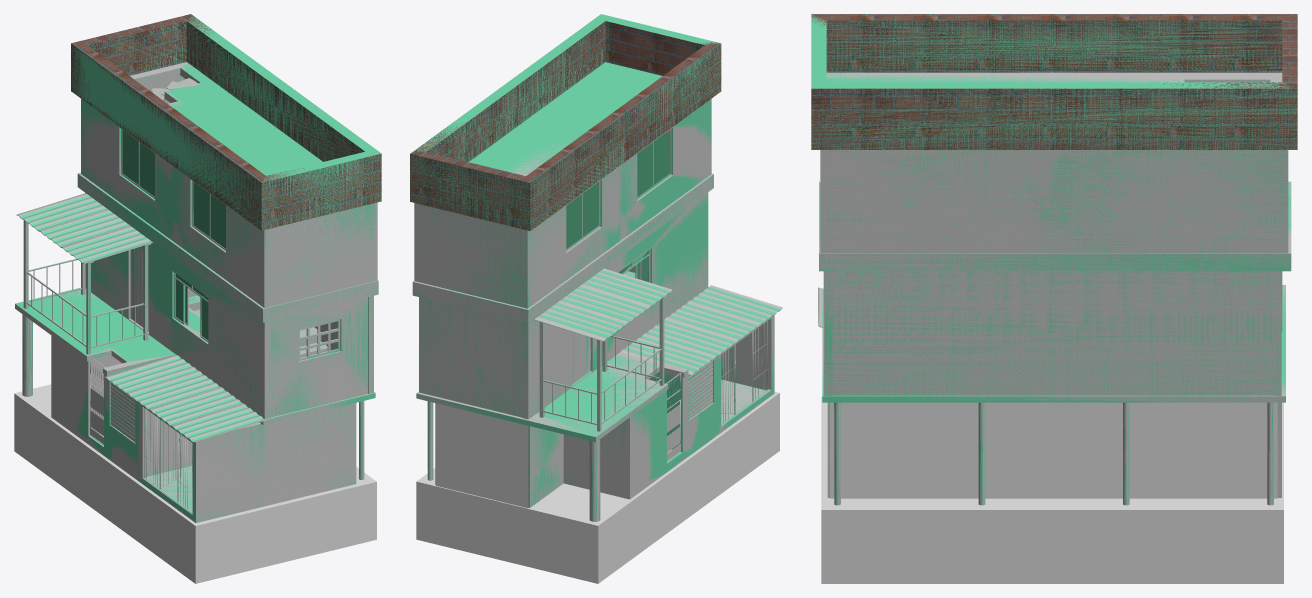
File: CASA 34.fbx
3 renders of one model, left to right at view 1: azimuth 30°, elevation 25°; view 2: azimuth 150°, elevation 25°; view 3: azimuth 270°, elevation 25°, orthographic. The views are drawn at different scales.
Parts seen in each view (by area): view 1: CASA34_LOD0, UTM_CASA34, Cube_LOD0; view 2: CASA34_LOD0, UTM_CASA34, Cube_LOD0, OCC_Oclusion1; view 3: CASA34_LOD0, UTM_CASA34, OCC_Oclusion2, Cube_LOD0.
Boxes of the visible parts, x1,y1,x2,y2 form: CASA34_LOD0: [15, 14, 381, 522]; UTM_CASA34: [15, 15, 381, 522]; Cube_LOD0: [14, 384, 376, 583]; CASA34_LOD0: [410, 21, 782, 521]; UTM_CASA34: [410, 14, 780, 521]; Cube_LOD0: [416, 392, 779, 583]; OCC_Oclusion1: [436, 403, 528, 507]; CASA34_LOD0: [811, 14, 1297, 505]; UTM_CASA34: [811, 15, 1297, 505]; OCC_Oclusion2: [830, 402, 1277, 498]; Cube_LOD0: [821, 397, 1283, 583].
Size of what is drawn, in the model's own units: 666 by 1342 by 1193.
